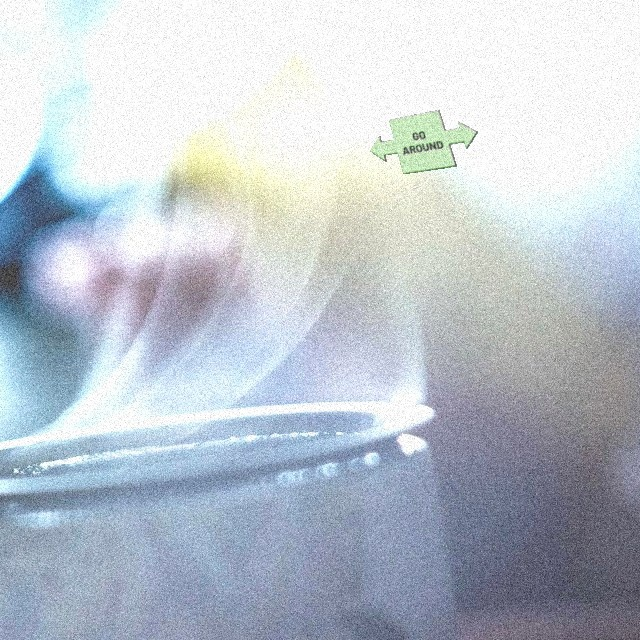GO_AROUND: (369, 109, 478, 174)
